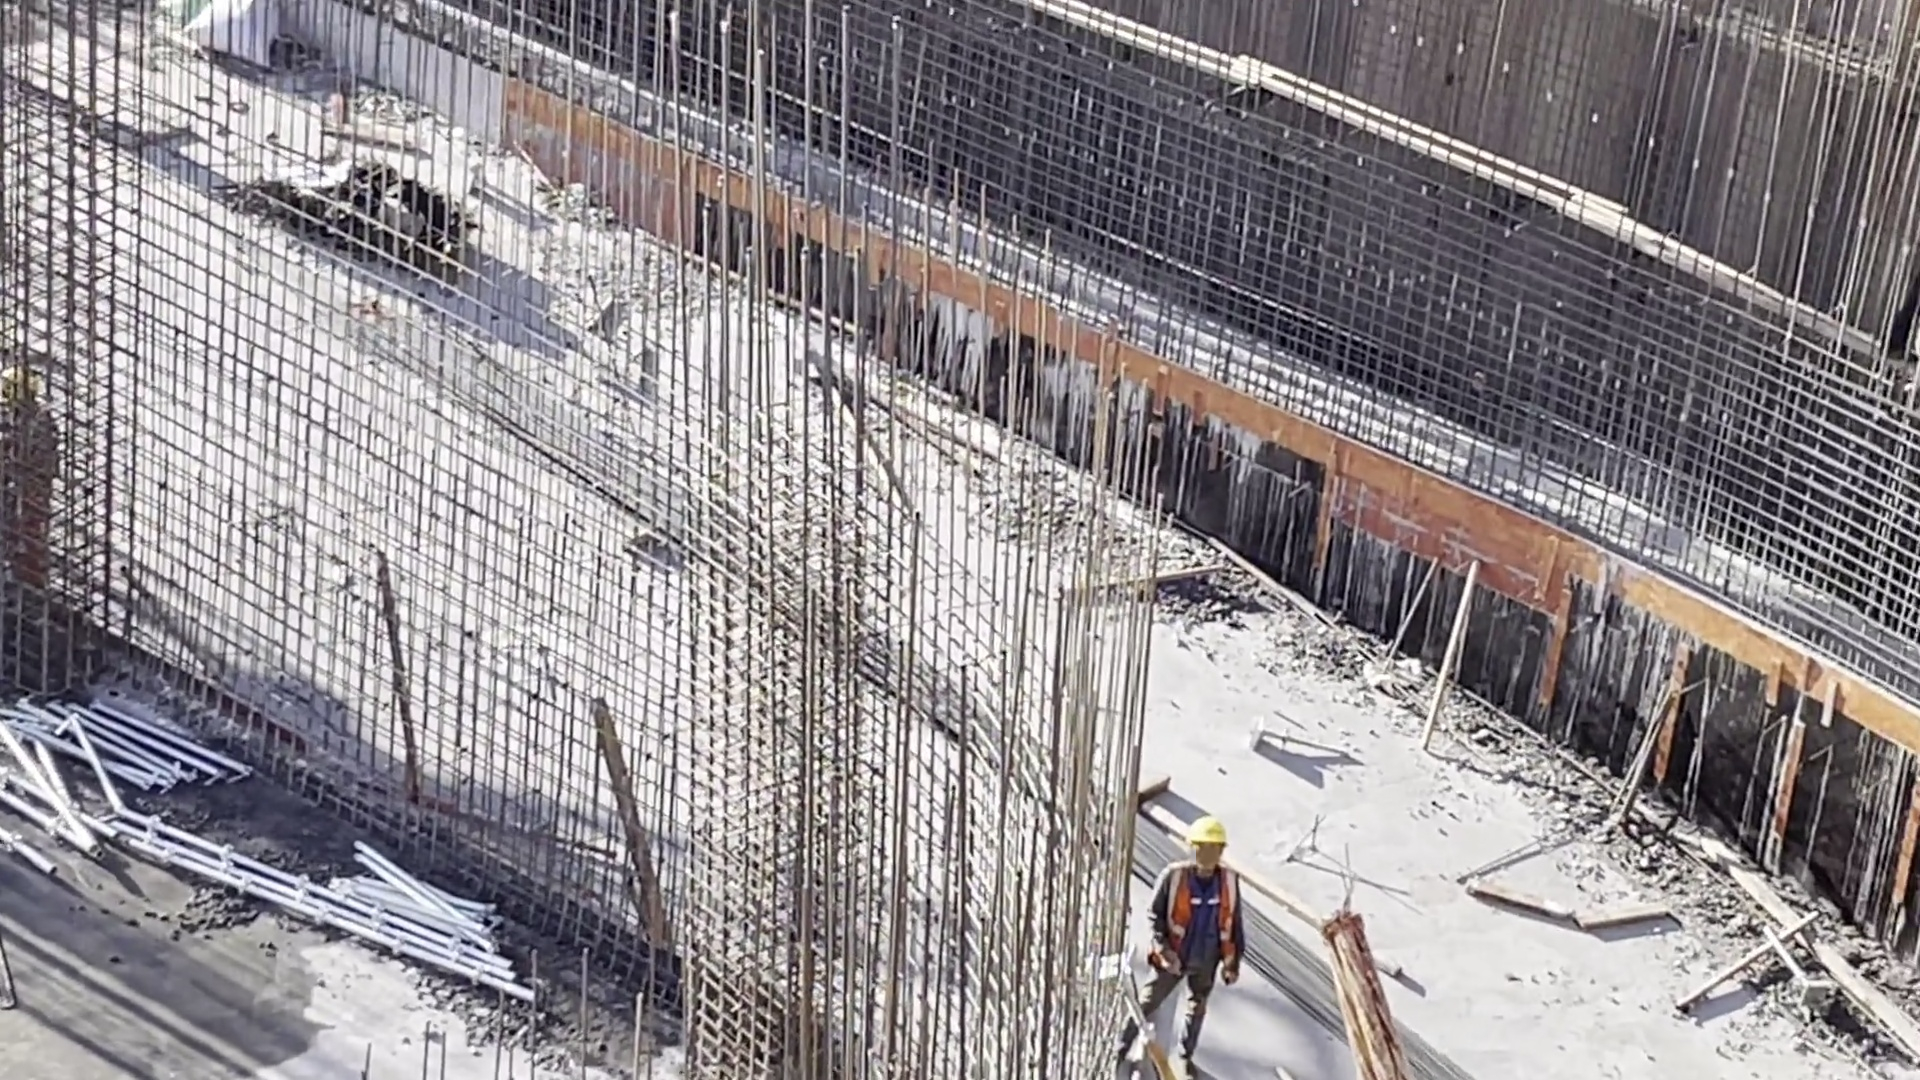helmet: (1192, 820, 1232, 872)
person: (1129, 816, 1249, 1056)
rebar: (1163, 851, 1443, 1080)
scaffold: (28, 689, 247, 821), (311, 836, 491, 978)
vest: (1156, 862, 1236, 972)
